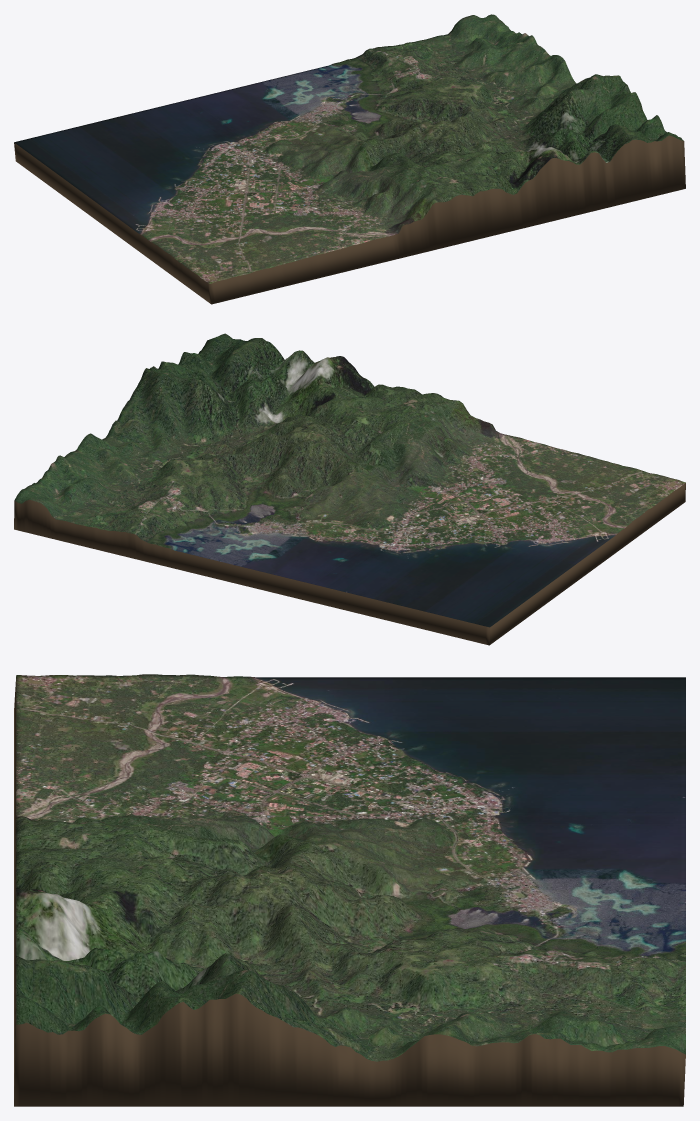
Rendered from peta-sofifi.glb.
The picture shows the model from 3 angles, top to bottom: view 1: azimuth 30°, elevation 25°; view 2: azimuth 150°, elevation 25°; view 3: azimuth 270°, elevation 25°; orthographic projection. The views are drawn at different scales.
Visible parts, largest first — view 1: EXPORT_ESRI_AERIAL_WM; view 2: EXPORT_ESRI_AERIAL_WM; view 3: EXPORT_ESRI_AERIAL_WM.
Boxes of the visible parts, x1,y1,x2,y2 form: EXPORT_ESRI_AERIAL_WM: [14, 14, 685, 304]; EXPORT_ESRI_AERIAL_WM: [14, 333, 685, 645]; EXPORT_ESRI_AERIAL_WM: [14, 674, 685, 1106].
Bounding box in the file's own units: 8581 × 1180 × 6135.
2 materials, 1 textured.
